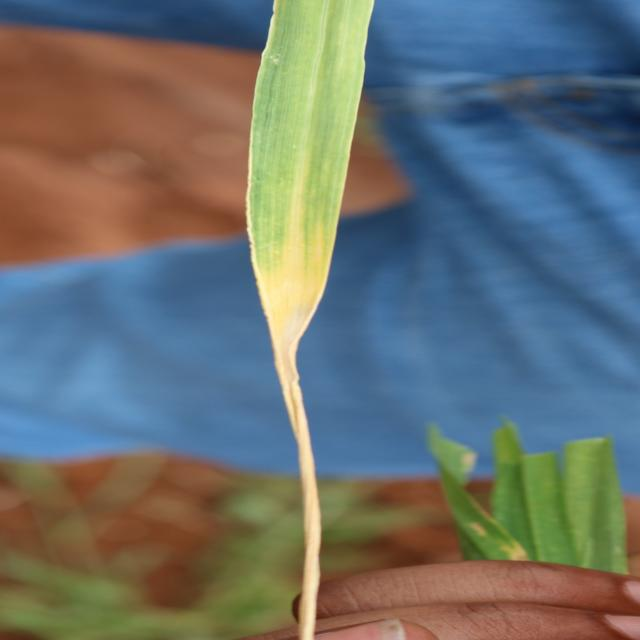Septoria: (244, 1, 375, 638)
